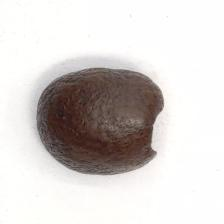NG: (143, 91, 163, 156)
